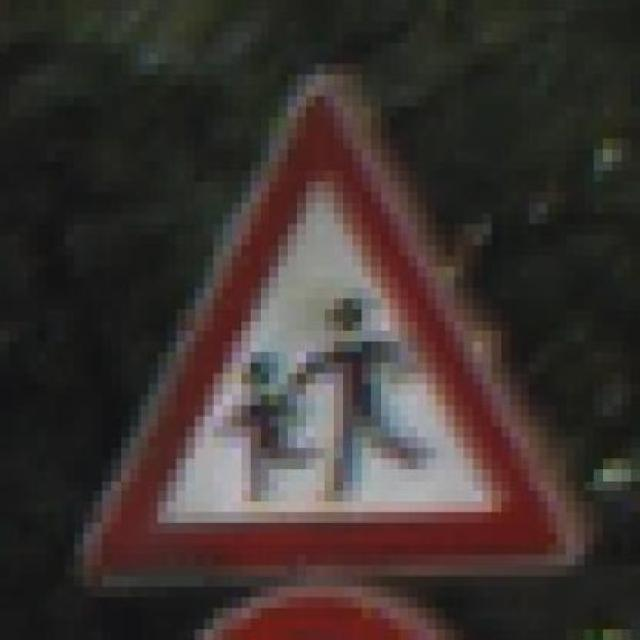Beware of children: (65, 53, 593, 598)
